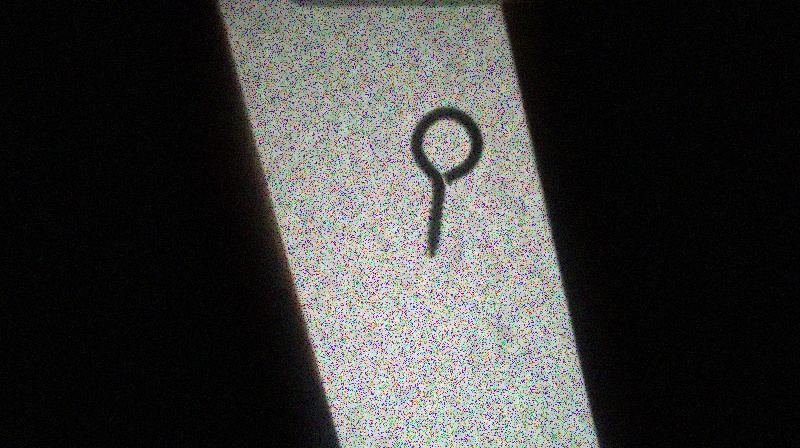O001: (406, 103, 487, 261)
